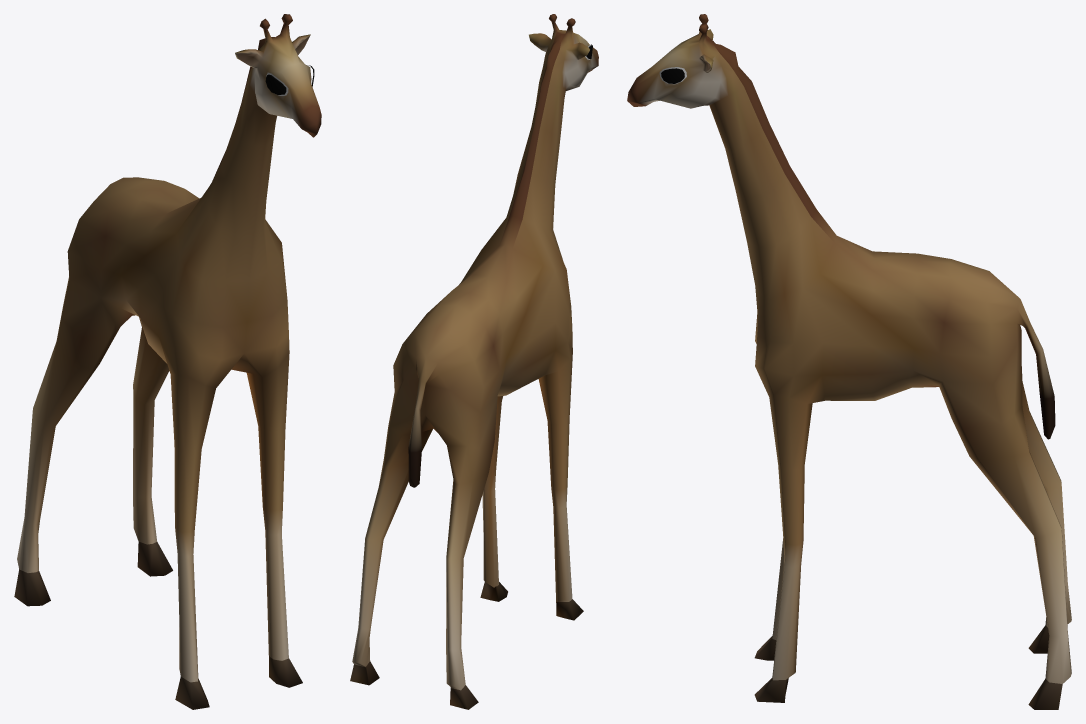
Rendered from giraffe.glb.
3 renders of one model, left to right at view 1: azimuth 30°, elevation 25°; view 2: azimuth 150°, elevation 25°; view 3: azimuth 270°, elevation 25°, orthographic. The views are drawn at different scales.
Visible parts, largest first — view 1: base; view 2: base; view 3: base.
Boxes of the visible parts, x1,y1,x2,y2 form: base: (14,14,321,709); base: (350,14,598,709); base: (627,14,1071,709).
Bounding box in the file's own units: 109 × 499 × 306.
